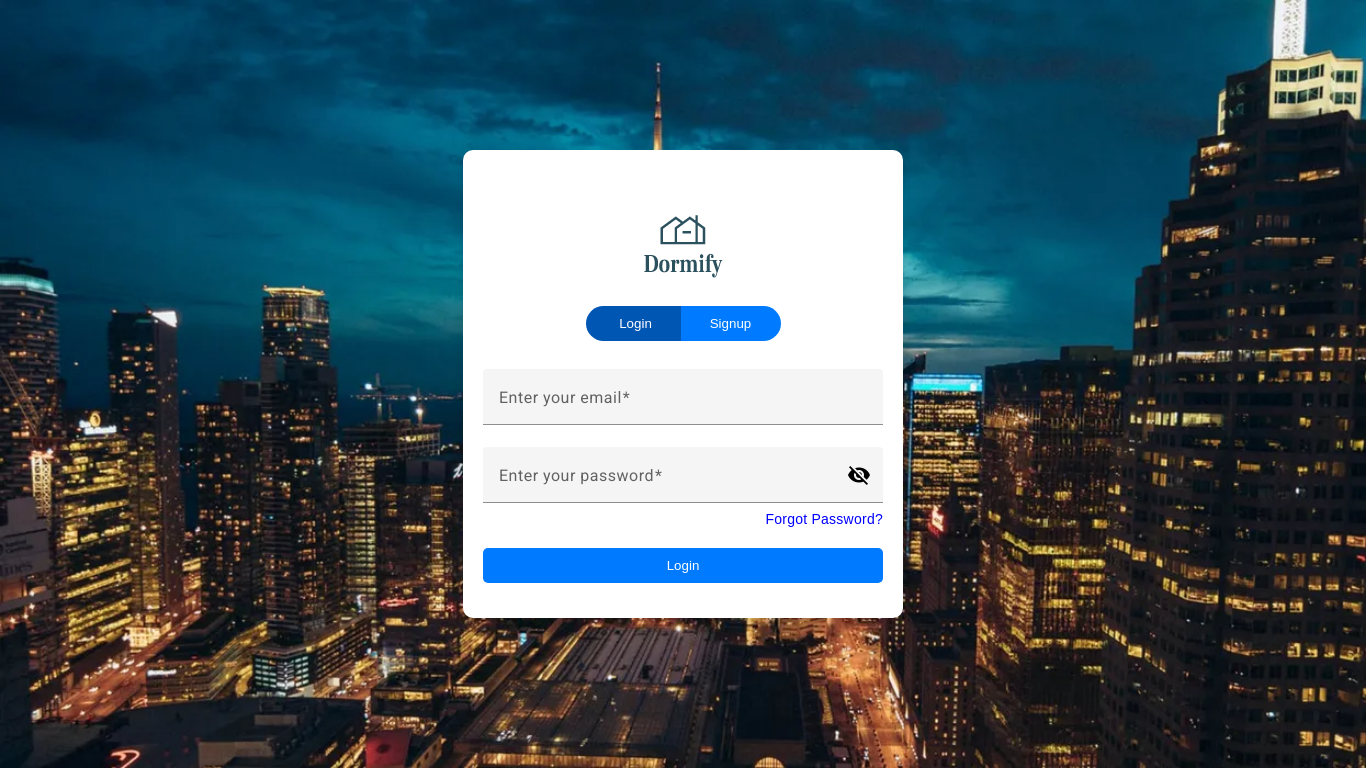
Test: Login › should get an error if the email is not provided
In the field named "email": (683, 405) [499, 393, 867, 417], type "bad@example.com"
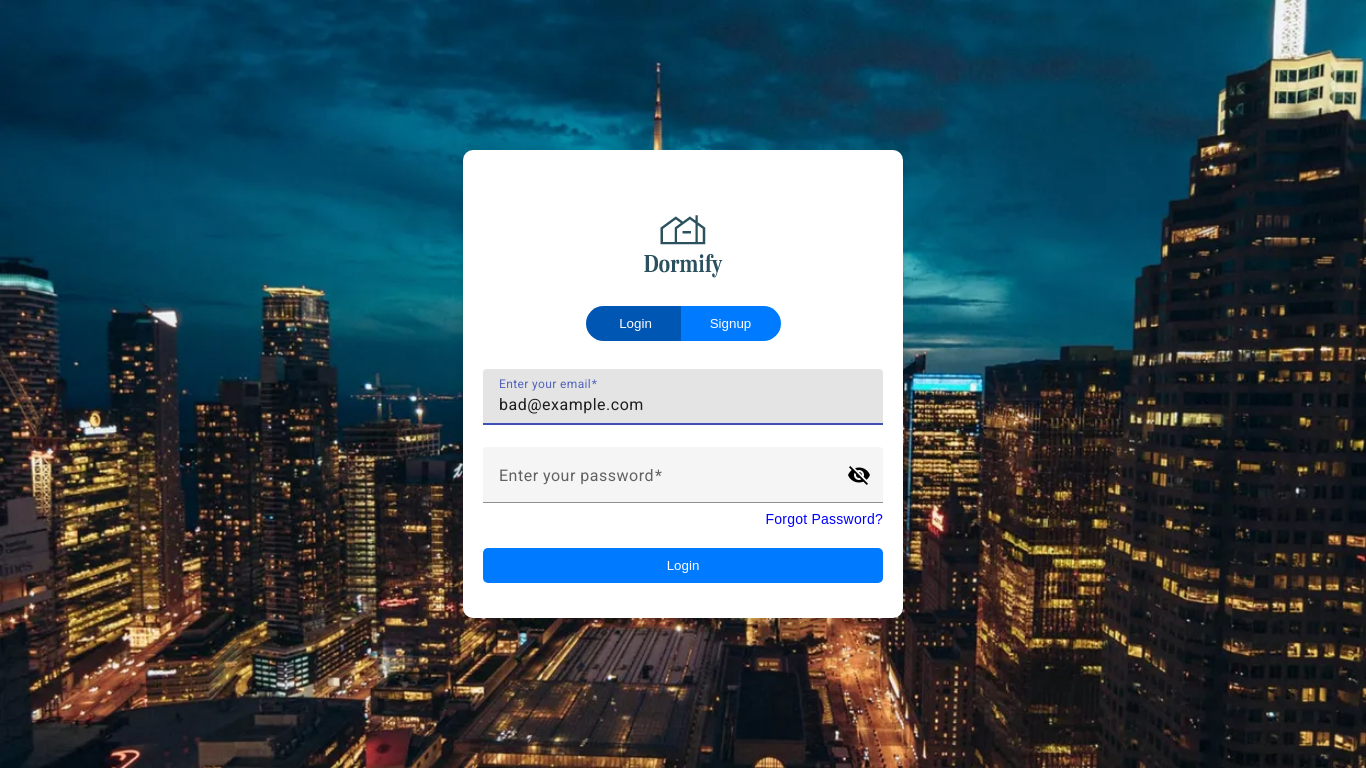
In the password field named "password": (665, 483) [499, 471, 831, 495], type "badpassword"
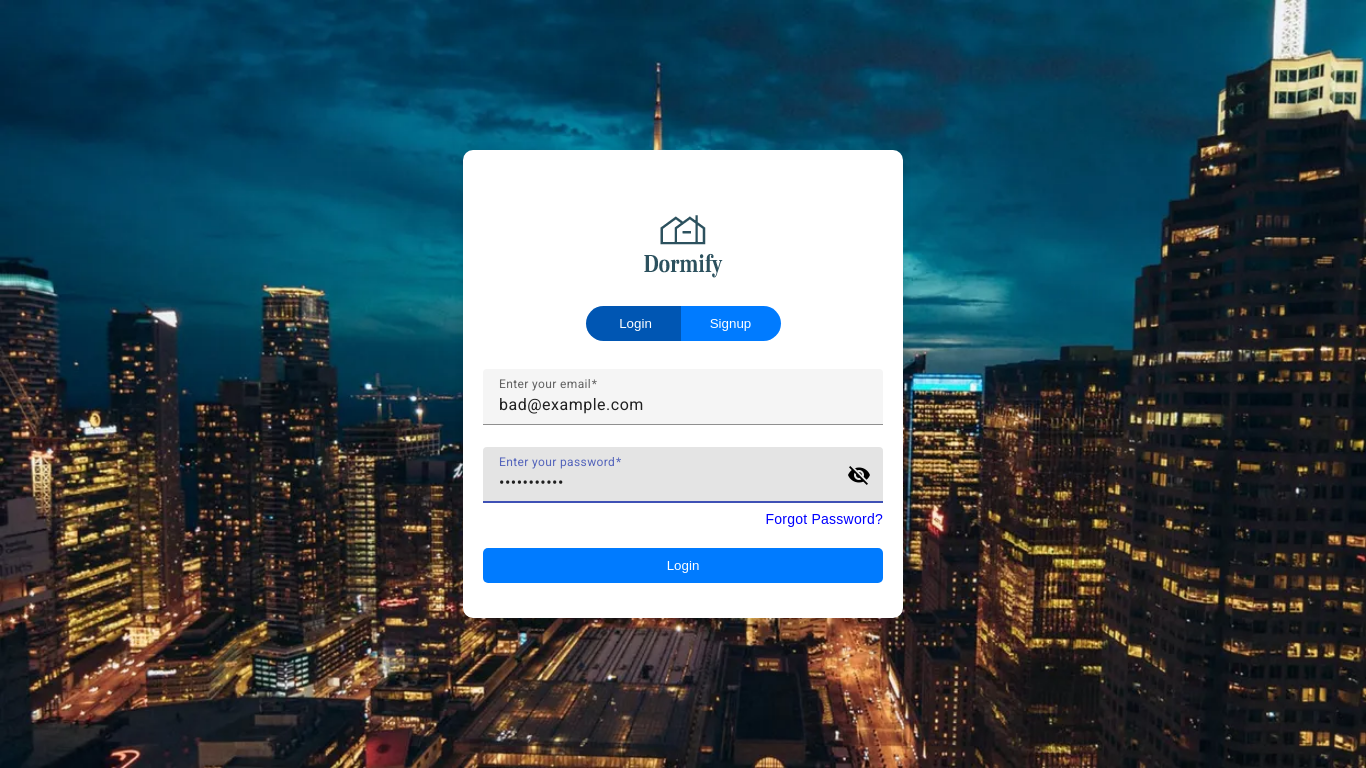
Click the submit button: (683, 566) [483, 548, 883, 583]
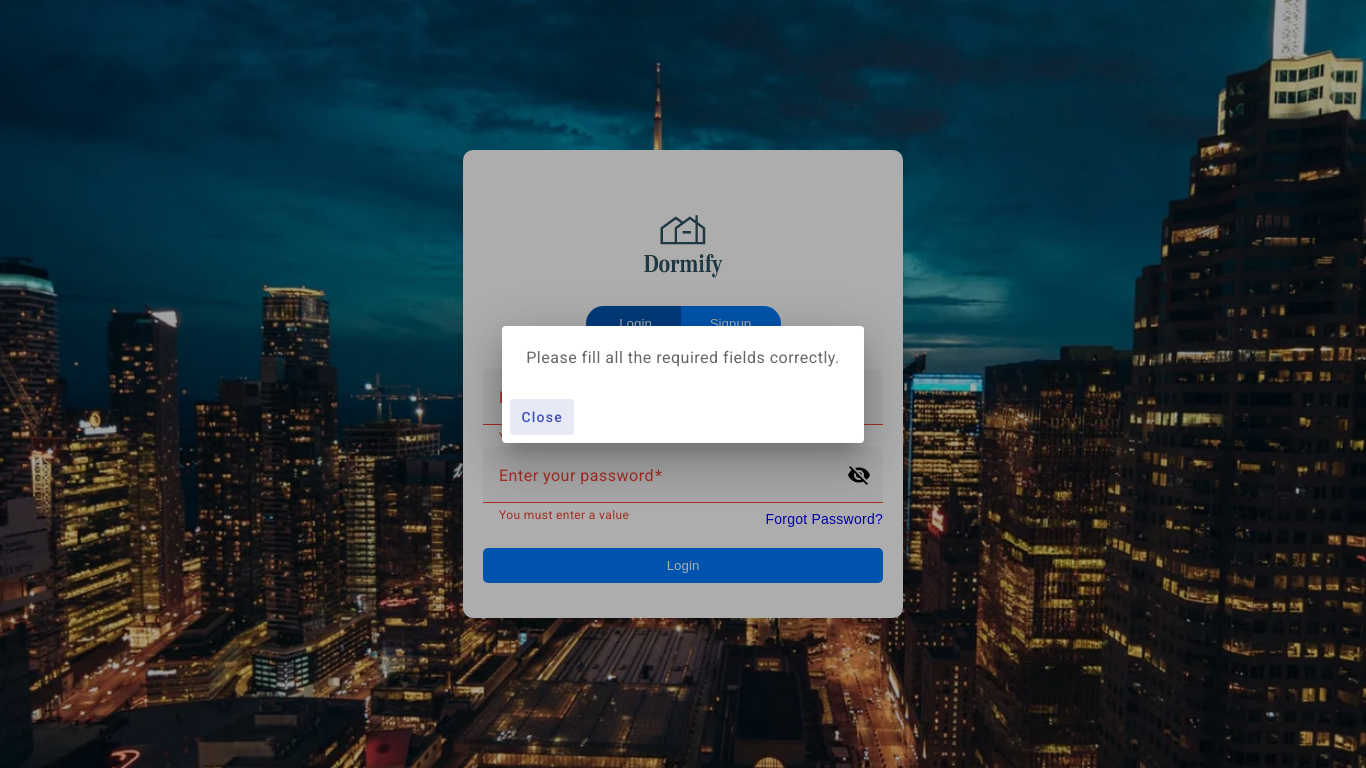
Result: the text "Please fill all the required fields correctly." is shown at [526, 348, 840, 366]
